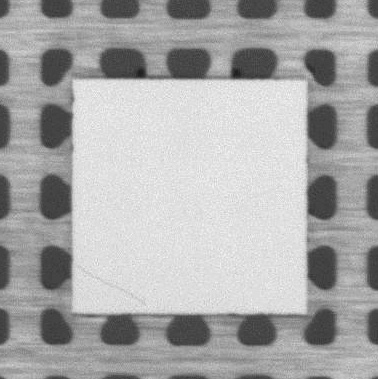DIE_CRACK: (74, 262, 148, 308)
